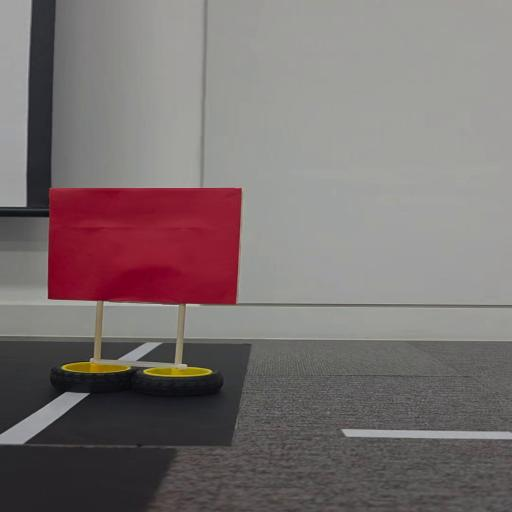Sign_A: (49, 180, 246, 392)
